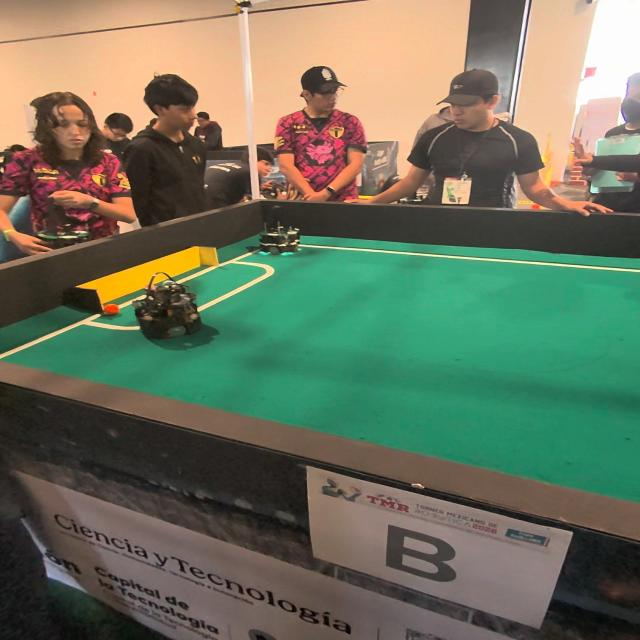Robot: (133, 270, 205, 343), (255, 202, 303, 260)
pelota: (106, 306, 121, 316)
